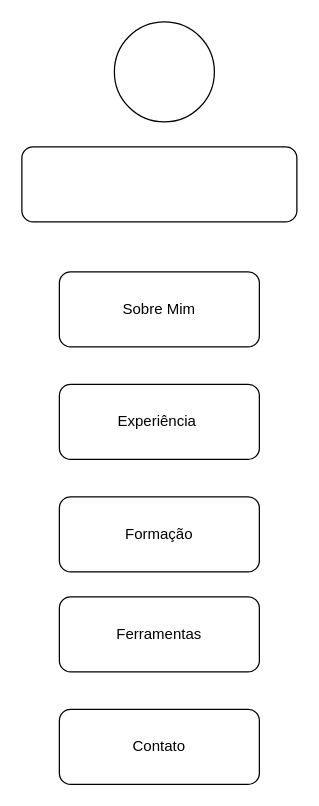
Image size: 319x806. Some labels were removed from this diagram. The centre of each missing label's shape, as x and y in pixels:
"Foto" goes at [163,71].
"Nome Descrição" goes at [159,184].
